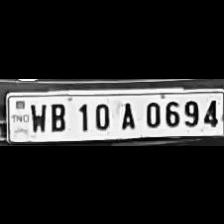0: (90, 98, 114, 130), (141, 97, 161, 127)
1: (70, 99, 90, 131)
4: (200, 96, 220, 127)
6: (162, 96, 180, 126)
9: (180, 96, 200, 126)
A: (116, 97, 138, 128)
B: (46, 99, 68, 131)
W: (26, 99, 46, 131)
